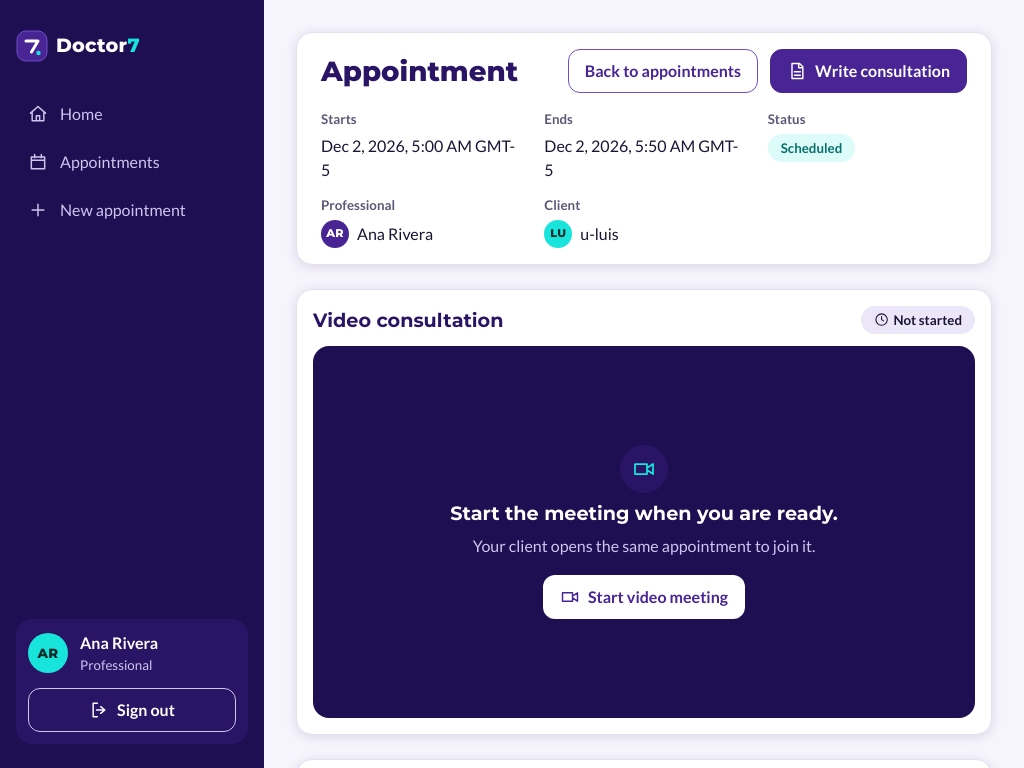
Test: Video › refuses an address that is not https
Click the button "Start video meeting". click: (644, 597)
box: left=543, top=575, right=745, bottom=619
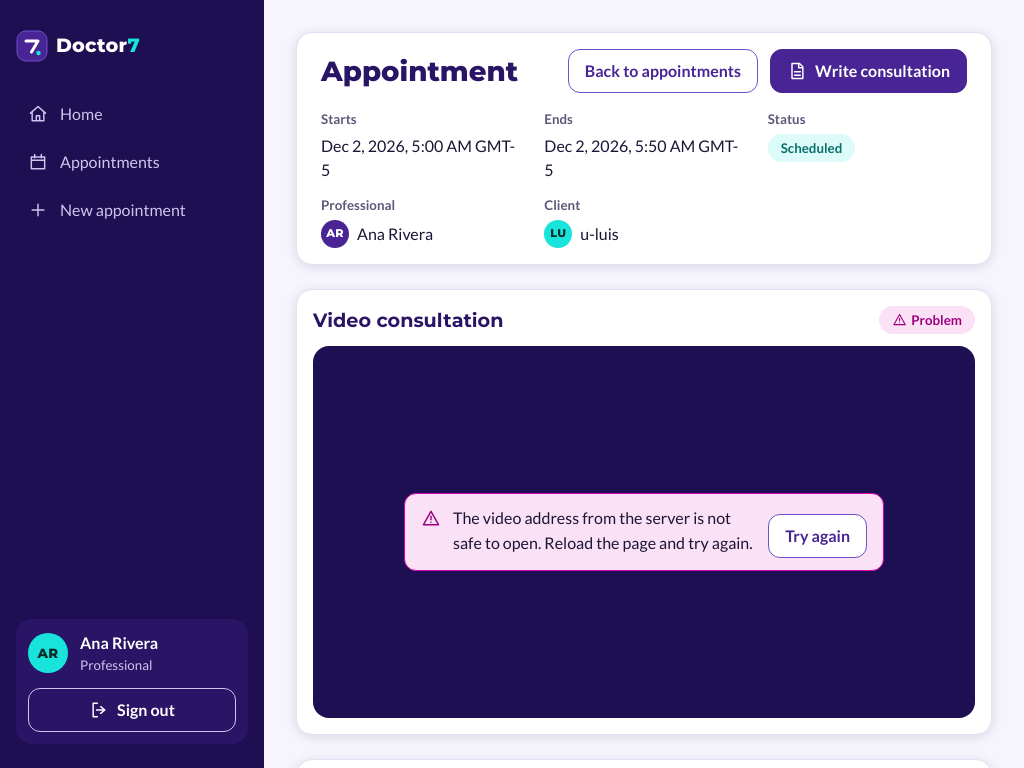
Now the message shows "not safe to open", box left=453, top=508, right=753, bottom=552
